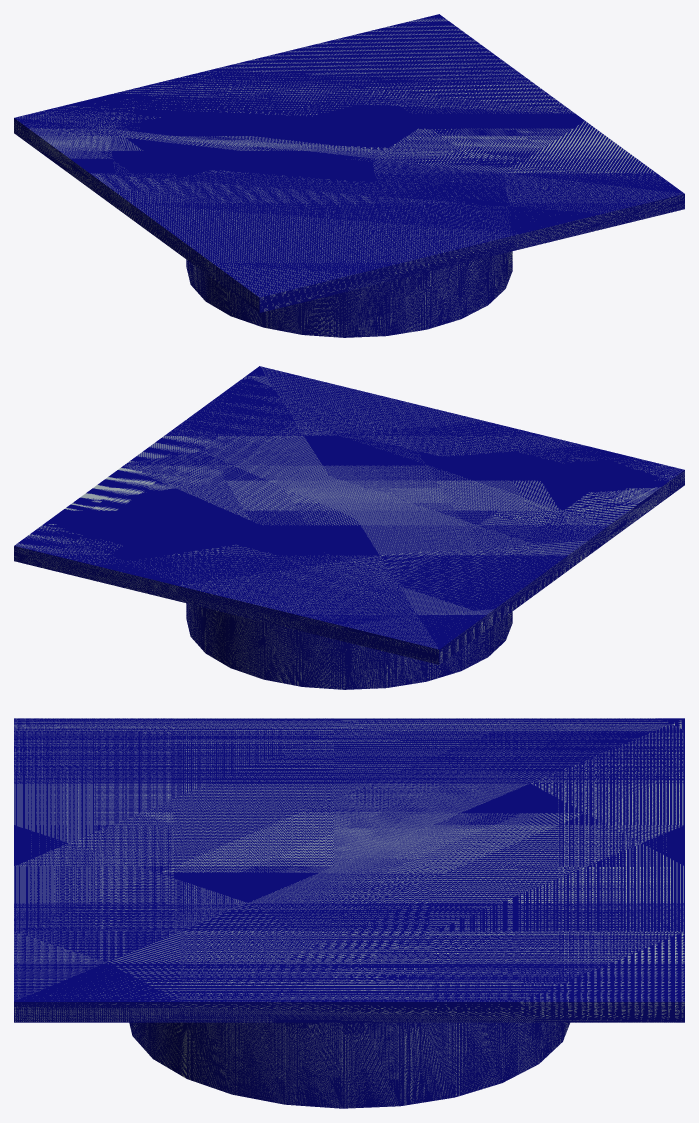
The model's file is graduation.dae.
3 renders of one model, top to bottom at view 1: azimuth 30°, elevation 25°; view 2: azimuth 150°, elevation 25°; view 3: azimuth 270°, elevation 25°, orthographic. The views are drawn at different scales.
Visible parts, largest first — view 1: SketchUp (×2); view 2: SketchUp (×2); view 3: SketchUp (×2).
Part boxes in pixels (x1,y1,x2,y2): SketchUp (×2): (14,14,684,337); SketchUp (×2): (14,366,684,689); SketchUp (×2): (14,718,684,1108).
Bounding box in the file's own units: 575 × 575 × 146.
